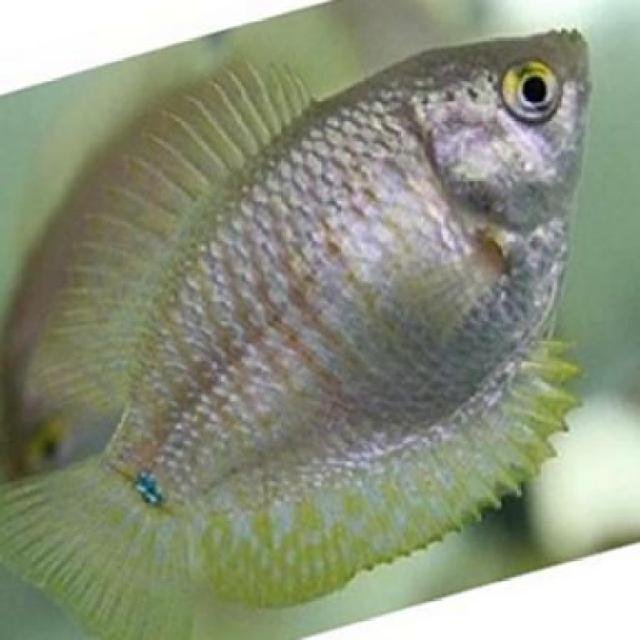Gourami: (0, 41, 597, 638)
